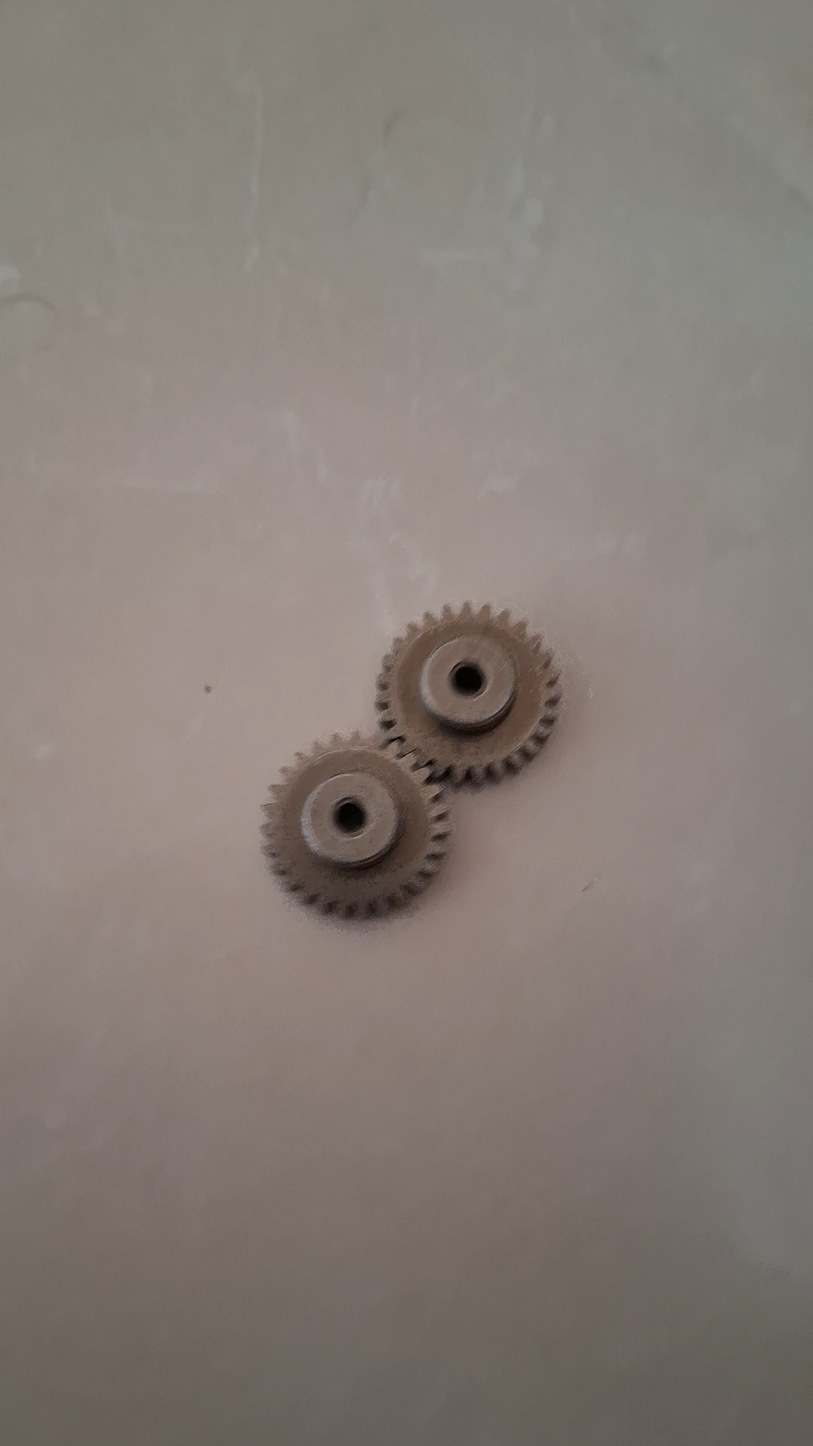spur gear: (291, 725, 477, 907), (400, 592, 583, 773)
